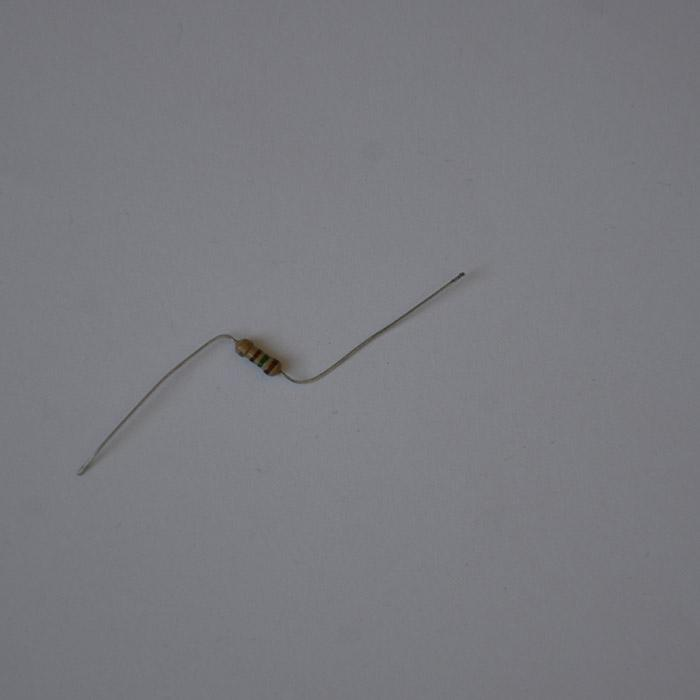resistor: (233, 337, 282, 377)
